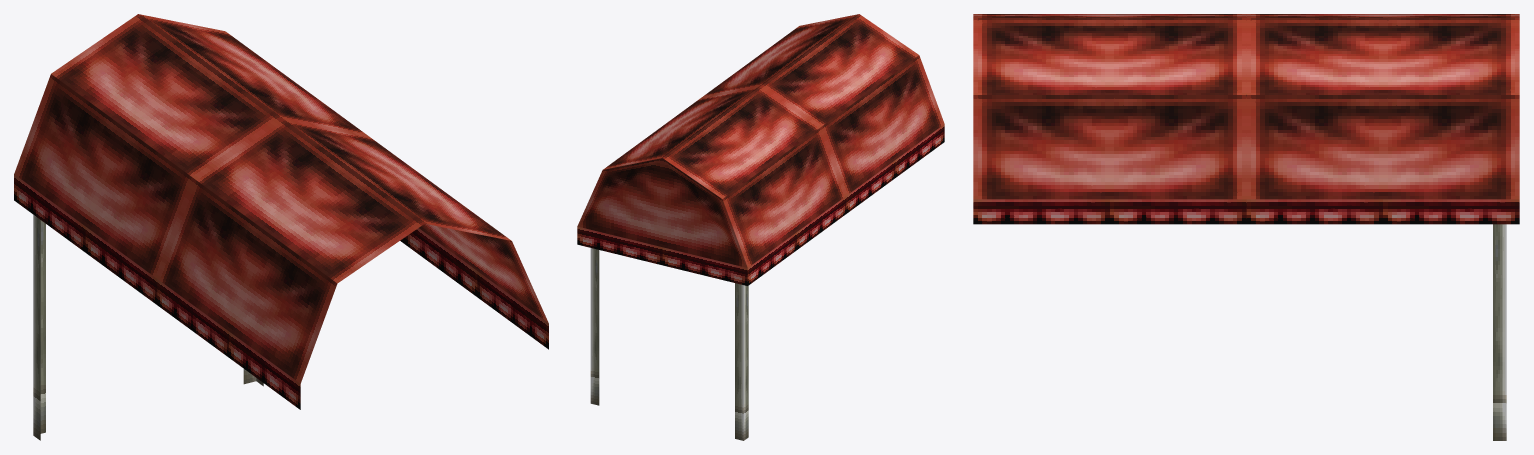
3 views of the same model, side by side, from view 1: azimuth 30°, elevation 25°; view 2: azimuth 150°, elevation 25°; view 3: azimuth 270°, elevation 25° (orthographic). The views are drawn at different scales.
Parts seen in each view (by area): view 1: prim246-long canopy; view 2: prim246-long canopy; view 3: prim246-long canopy.
Boxes of the visible parts, x1,y1,x2,y2 form: prim246-long canopy: (14, 14, 548, 440); prim246-long canopy: (577, 14, 944, 440); prim246-long canopy: (973, 14, 1519, 440).
Size of the model in its own units: 256 by 384 by 512.
3 materials, 3 textured.
